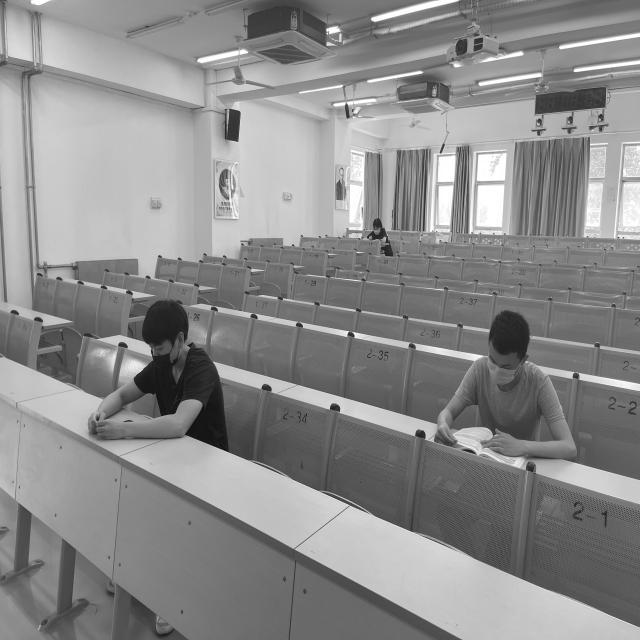phone: (87, 300, 222, 446)
study: (435, 311, 578, 462), (367, 216, 389, 241)
